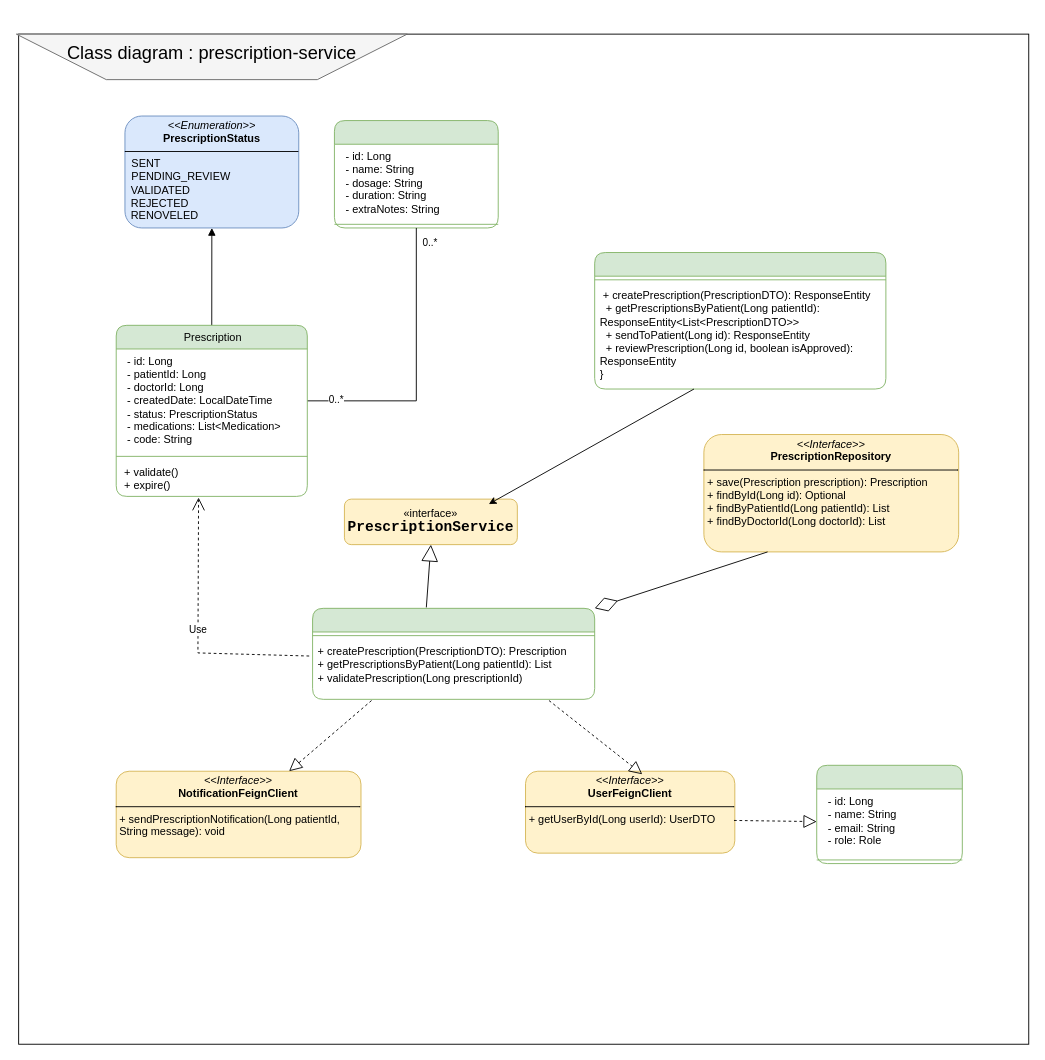
Image size: 1045x1060. Some labels were removed from this diagram. Here are the shapes that lost their labels. From the top down, the box of each, then its label:
(334, 120, 498, 228): Medication
(594, 252, 886, 389): PrescriptionController
(312, 607, 595, 699): PrescriptionServiceImpl
(816, 764, 962, 864): UserDTO
